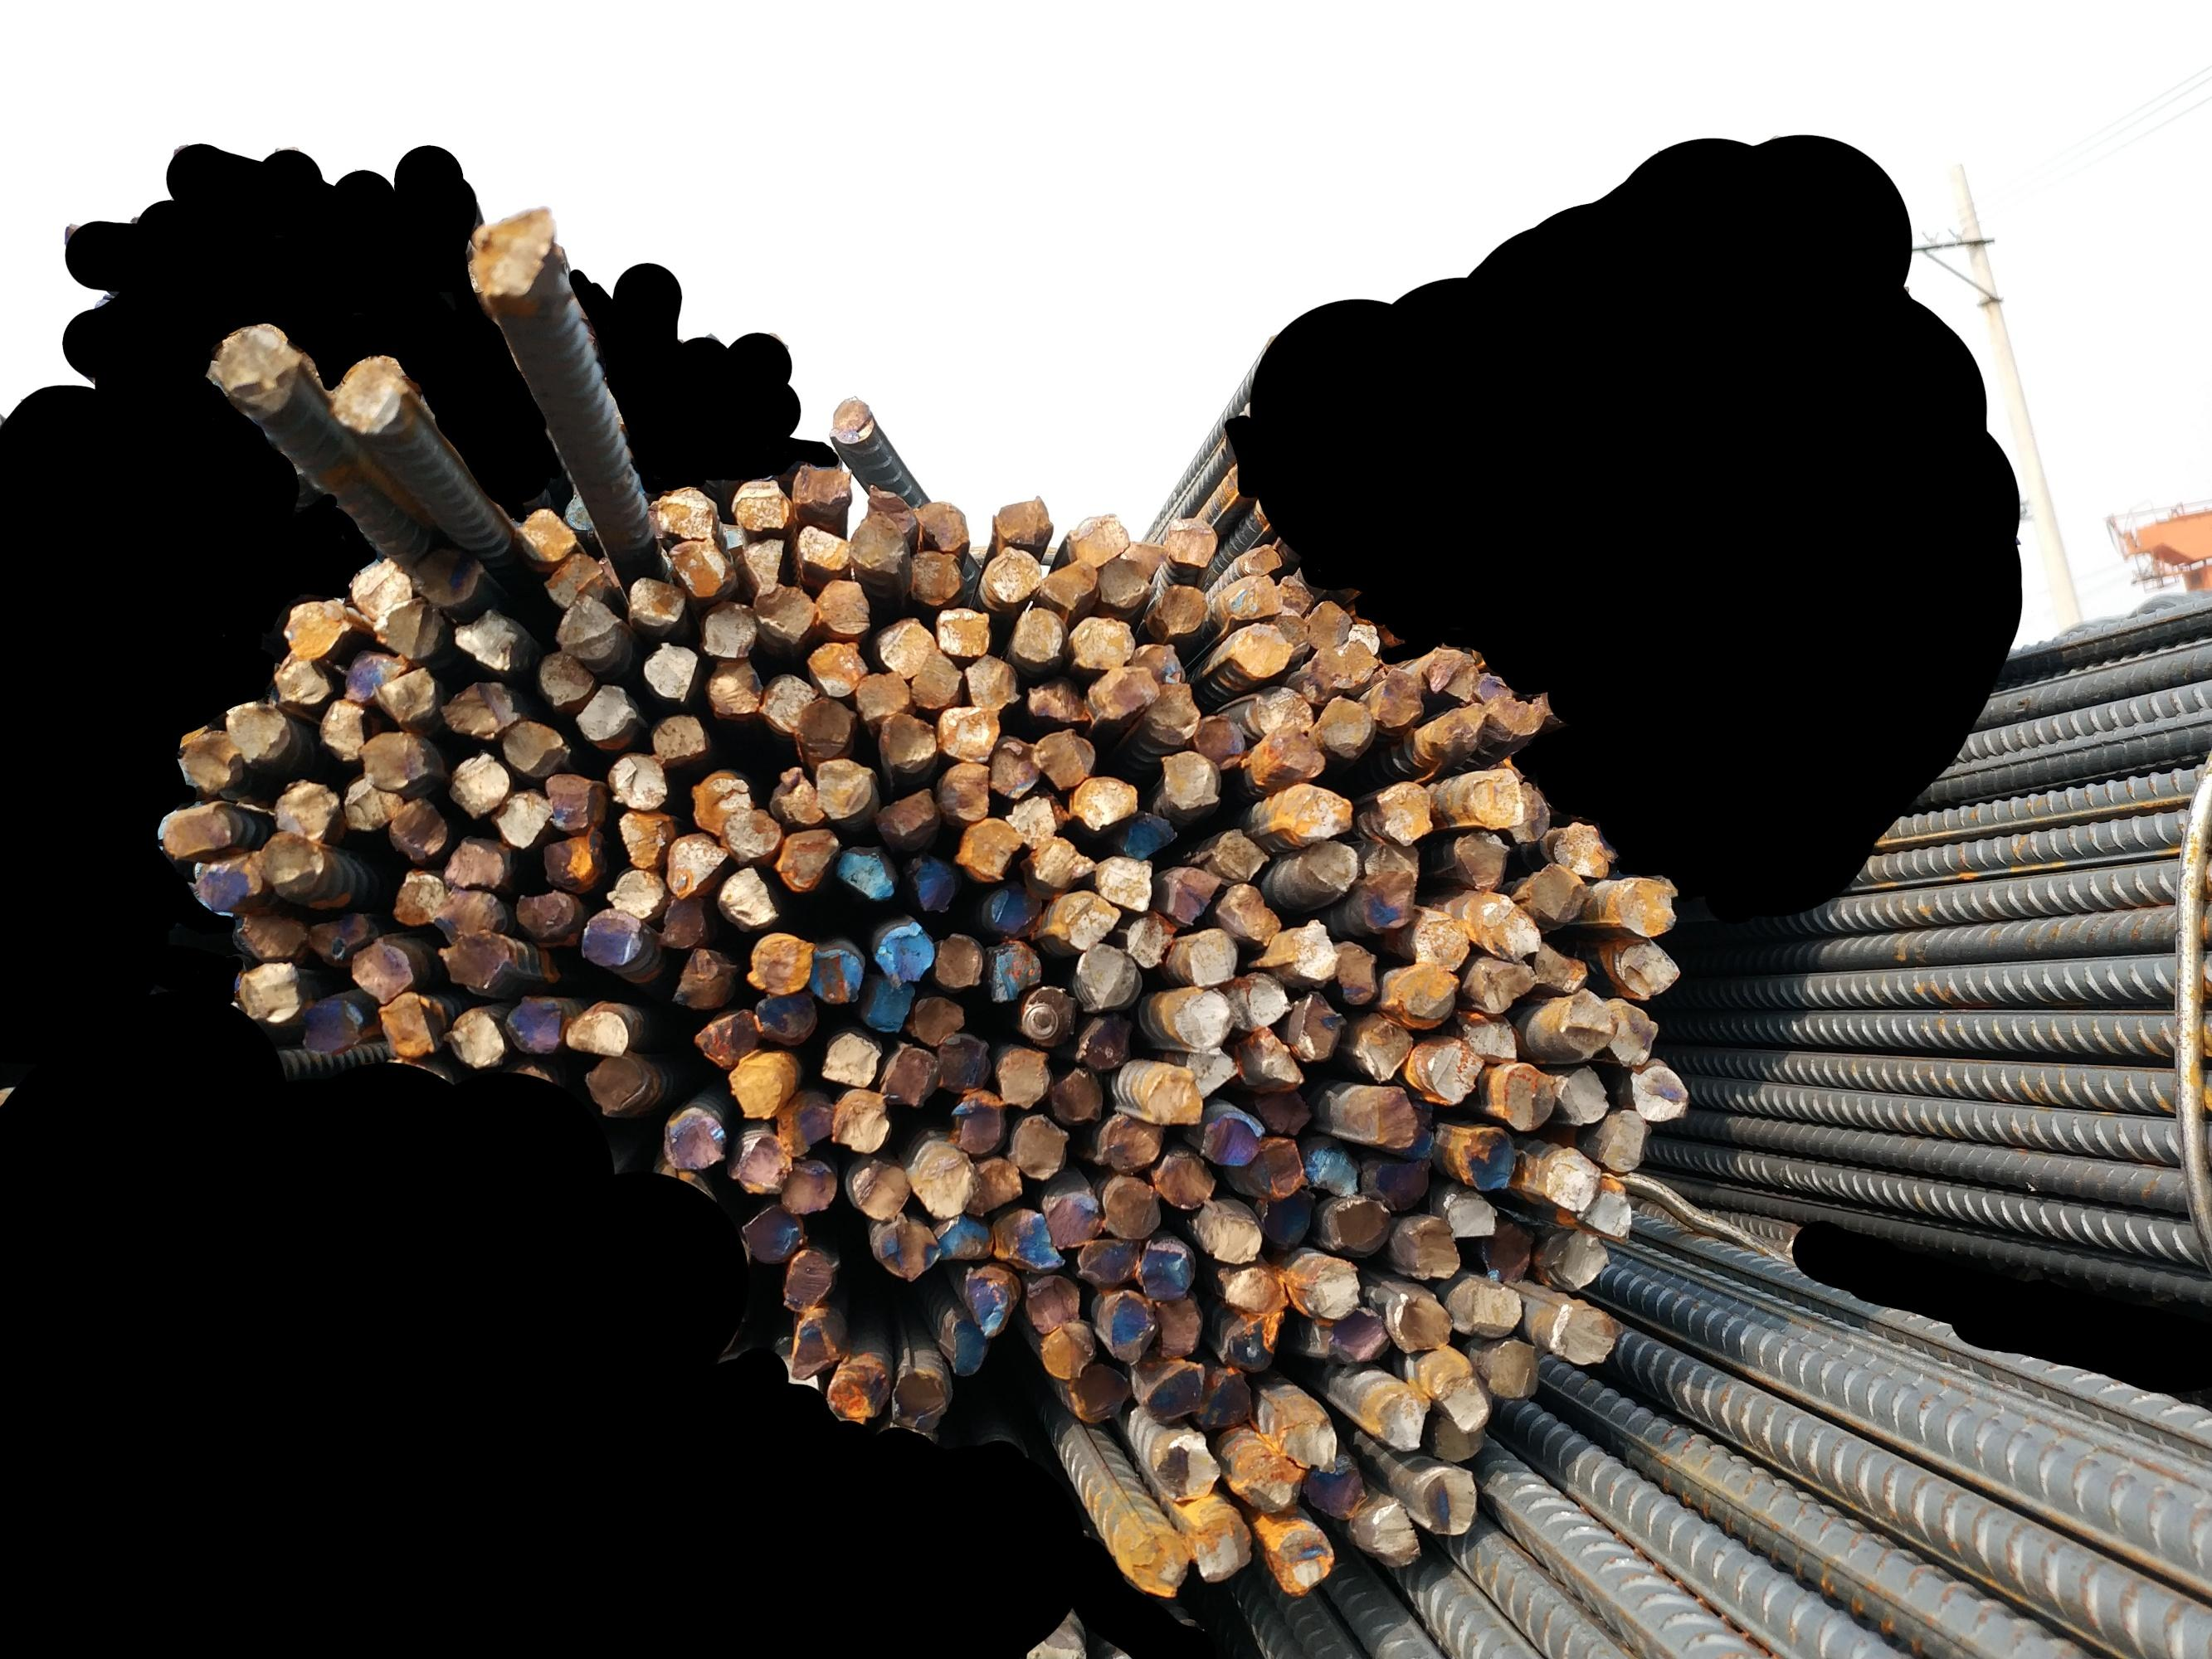bar: (202, 317, 305, 413), (464, 204, 558, 307), (328, 349, 415, 444), (446, 599, 519, 676), (912, 1138, 976, 1222), (1286, 1248, 1360, 1321), (1541, 1302, 1623, 1366), (357, 725, 434, 793), (1121, 1520, 1189, 1596), (439, 676, 518, 742), (188, 842, 268, 906), (270, 774, 342, 845), (654, 1103, 729, 1171), (553, 591, 622, 662), (1382, 1288, 1455, 1356), (661, 829, 730, 899), (1489, 1060, 1558, 1129), (1347, 1011, 1417, 1080), (1265, 1525, 1333, 1596), (1354, 1499, 1422, 1570), (1475, 890, 1543, 962), (1555, 985, 1618, 1061), (174, 727, 244, 795), (438, 1004, 507, 1072), (580, 1046, 650, 1114), (1407, 1467, 1476, 1535), (1238, 1023, 1306, 1093), (218, 699, 289, 765), (232, 960, 303, 1026), (953, 812, 1020, 884), (1215, 878, 1281, 950), (1187, 1513, 1253, 1584), (1196, 1201, 1267, 1267), (1231, 1455, 1304, 1520), (1386, 964, 1459, 1028), (410, 544, 485, 606), (1093, 1286, 1156, 1361), (1091, 1112, 1166, 1175), (875, 1215, 943, 1283), (746, 931, 814, 999), (774, 823, 842, 890), (281, 591, 350, 657), (1049, 887, 1119, 953), (1396, 1215, 1462, 1284), (1154, 1431, 1218, 1502), (1370, 777, 1435, 849), (1316, 1304, 1389, 1366), (1609, 936, 1682, 999), (375, 988, 436, 1063), (434, 931, 509, 992), (258, 831, 326, 897), (1063, 1354, 1130, 1422), (1137, 1359, 1204, 1425), (772, 1089, 837, 1159), (1145, 1148, 1215, 1213), (1171, 985, 1236, 1054), (1133, 1063, 1204, 1126), (828, 1089, 894, 1155), (377, 598, 444, 662), (383, 795, 448, 863), (511, 500, 579, 565), (1271, 1406, 1339, 1471), (1422, 1037, 1487, 1105), (352, 936, 415, 1006), (654, 477, 723, 540), (1462, 765, 1525, 835), (1609, 873, 1680, 934), (889, 1361, 948, 1434), (1279, 784, 1353, 843), (444, 753, 511, 817), (849, 1157, 915, 1222), (689, 767, 753, 833), (1351, 1084, 1417, 1148), (934, 701, 1002, 763), (162, 800, 232, 861), (1077, 941, 1138, 1011), (1217, 1312, 1286, 1373), (823, 1358, 887, 1422), (872, 917, 936, 981), (835, 842, 899, 906), (1175, 924, 1239, 988), (1454, 1127, 1518, 1192), (791, 692, 854, 758), (1368, 1384, 1431, 1450), (368, 664, 436, 725), (570, 680, 638, 741), (1140, 676, 1201, 744), (1009, 1114, 1070, 1182), (603, 751, 675, 809), (228, 910, 307, 962), (1210, 1263, 1288, 1316), (1290, 992, 1346, 1065), (1253, 725, 1327, 781), (741, 1197, 804, 1262), (694, 1004, 757, 1068), (577, 906, 641, 969), (1157, 748, 1222, 810), (1523, 863, 1588, 925), (877, 610, 938, 676), (1194, 1364, 1255, 1431), (1300, 1459, 1368, 1518), (661, 537, 730, 594), (1069, 772, 1138, 829), (781, 1244, 837, 1316), (347, 558, 410, 620), (715, 864, 777, 927), (612, 807, 675, 870), (1032, 725, 1095, 788), (1537, 1148, 1600, 1211), (342, 770, 403, 835), (500, 993, 565, 1054), (730, 474, 795, 535), (1328, 1194, 1389, 1258), (309, 694, 368, 760), (502, 714, 568, 774), (443, 835, 509, 894), (492, 782, 551, 849), (804, 636, 870, 695), (1222, 969, 1288, 1028), (432, 884, 507, 936), (786, 1312, 844, 1380), (542, 551, 610, 608), (1089, 662, 1157, 720), (983, 732, 1041, 800), (1018, 979, 1075, 1047), (1252, 1134, 1309, 1202), (880, 1037, 936, 1107), (1363, 1157, 1435, 1211), (812, 756, 873, 819), (877, 781, 940, 842), (1002, 1211, 1063, 1274), (751, 580, 816, 640), (1100, 1176, 1159, 1241), (1473, 1223, 1537, 1283), (1593, 1108, 1652, 1173), (298, 997, 364, 1054), (1196, 1115, 1265, 1169), (307, 913, 378, 965), (988, 932, 1041, 1004), (640, 640, 701, 701), (1551, 1230, 1612, 1291), (668, 945, 727, 1007), (933, 1028, 992, 1091), (697, 599, 760, 659), (793, 460, 856, 519), (1020, 1272, 1082, 1331), (1626, 1063, 1689, 1122), (1551, 819, 1614, 878), (730, 1133, 788, 1197), (966, 1152, 1023, 1216), (1553, 1063, 1611, 1127), (1473, 958, 1537, 1016), (1605, 999, 1659, 1066), (1152, 1293, 1204, 1363), (819, 1028, 880, 1087), (849, 514, 908, 575), (913, 493, 974, 552), (905, 650, 966, 709), (1159, 864, 1220, 924), (1177, 1040, 1238, 1100), (1572, 1182, 1633, 1241), (966, 1263, 1016, 1335), (727, 1054, 784, 1117), (1229, 622, 1292, 680), (1042, 1066, 1105, 1124), (1259, 1190, 1316, 1253), (1482, 1337, 1539, 1399), (1360, 868, 1417, 931), (995, 1044, 1051, 1108), (539, 767, 593, 833), (1021, 673, 1088, 727), (565, 1006, 633, 1058), (812, 575, 872, 634), (931, 599, 990, 659), (960, 652, 1020, 711), (1006, 605, 1065, 664), (1119, 910, 1178, 969), (1133, 1237, 1192, 1297), (1452, 829, 1511, 889), (767, 760, 824, 821), (1072, 1014, 1133, 1072), (1039, 1188, 1100, 1246), (1462, 1279, 1523, 1337), (1316, 694, 1374, 755), (776, 1161, 838, 1216), (981, 549, 1044, 605), (267, 650, 331, 704), (950, 1093, 1004, 1157), (940, 758, 994, 823), (1065, 512, 1130, 566), (1030, 833, 1096, 885), (1286, 918, 1339, 985), (908, 988, 967, 1046), (706, 657, 763, 716), (760, 673, 816, 734), (1039, 556, 1100, 612), (1210, 828, 1271, 884), (1412, 915, 1473, 971), (1246, 687, 1316, 735), (1433, 699, 1489, 760), (1424, 645, 1480, 706), (809, 941, 863, 1004), (931, 929, 985, 992), (1004, 795, 1069, 847), (1330, 938, 1379, 1006), (537, 647, 594, 704), (628, 570, 685, 627), (1530, 936, 1588, 993), (540, 831, 600, 887), (879, 709, 934, 769), (1159, 514, 1218, 570), (390, 866, 444, 927), (605, 864, 666, 918), (1091, 854, 1152, 908), (929, 1215, 992, 1267), (720, 807, 783, 859), (849, 667, 912, 720), (1222, 570, 1285, 622), (1440, 1192, 1503, 1244), (1295, 838, 1358, 890), (1252, 1089, 1318, 1138), (1304, 1141, 1360, 1199), (1435, 1373, 1489, 1432), (1072, 1236, 1140, 1283), (824, 390, 877, 451), (518, 884, 579, 936), (751, 988, 812, 1040), (910, 545, 962, 606), (1074, 615, 1135, 667), (1461, 1011, 1522, 1063), (1489, 690, 1550, 742), (647, 711, 711, 760), (1372, 671, 1421, 735), (861, 481, 917, 537), (985, 884, 1044, 936), (1039, 1321, 1091, 1380), (861, 972, 912, 1033), (992, 495, 1053, 545), (906, 852, 955, 915), (1297, 594, 1351, 650), (335, 650, 392, 702), (1431, 1413, 1490, 1464), (1506, 781, 1551, 845), (1096, 552, 1149, 608), (655, 889, 706, 946), (795, 519, 852, 570), (945, 1314, 990, 1377), (1156, 582, 1208, 634), (1192, 711, 1245, 763), (1123, 810, 1175, 861), (743, 537, 790, 592), (1135, 640, 1185, 690), (1363, 836, 1419, 882), (558, 488, 600, 533), (1307, 647, 1349, 692), (1264, 601, 1307, 643), (1234, 544, 1283, 580), (1475, 669, 1518, 709), (1340, 638, 1379, 681), (1130, 533, 1171, 572), (1274, 575, 1313, 617), (1346, 617, 1381, 652)
